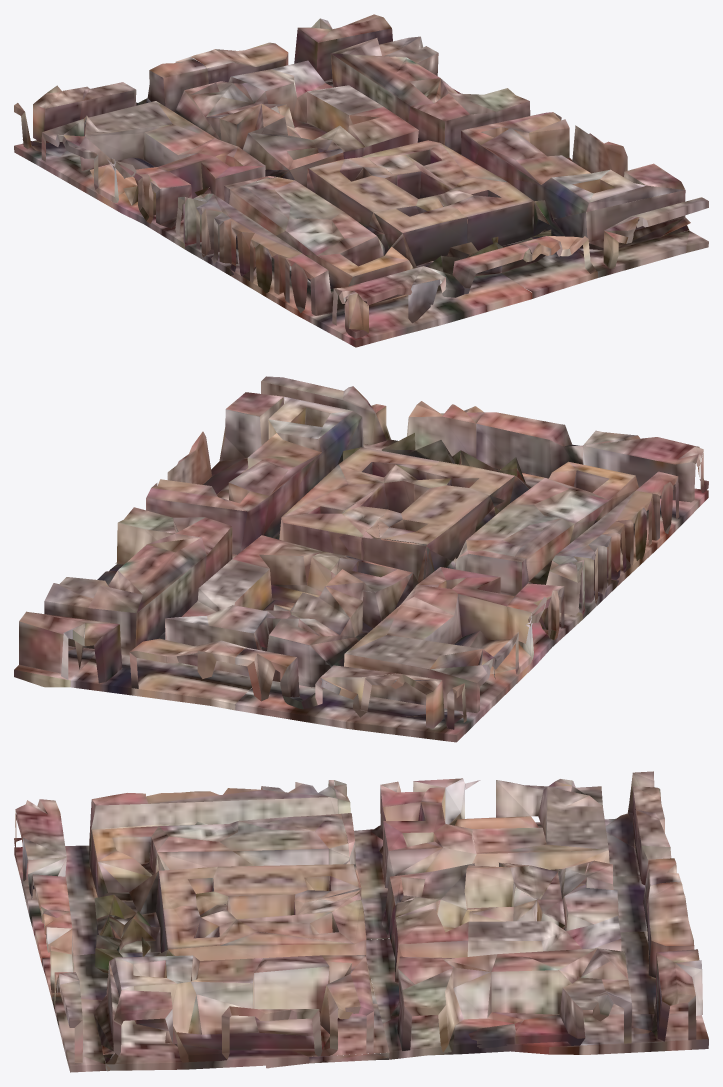
The picture shows the model from 3 angles, top to bottom: view 1: azimuth 30°, elevation 25°; view 2: azimuth 150°, elevation 25°; view 3: azimuth 270°, elevation 25°; orthographic projection. The views are drawn at different scales.
Parts seen in each view (by area): view 1: Mesh_0; view 2: Mesh_0; view 3: Mesh_0.
Part boxes in pixels (box(x1,y1,x2,y2)): Mesh_0: box(14, 14, 708, 347); Mesh_0: box(14, 376, 708, 742); Mesh_0: box(14, 771, 708, 1072).
Bounding box in the file's own units: 266 × 43.26 × 330.
1 material, 1 textured.
